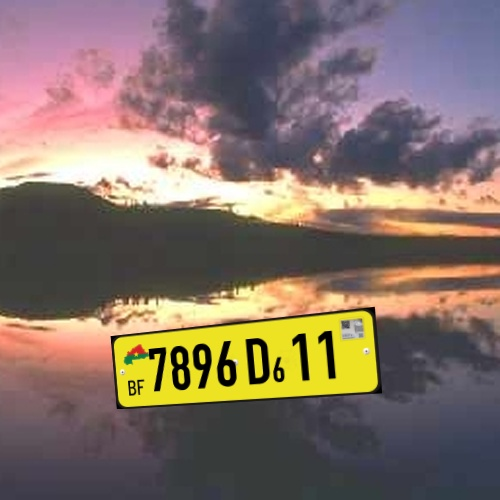plate: (96, 294, 389, 419)
